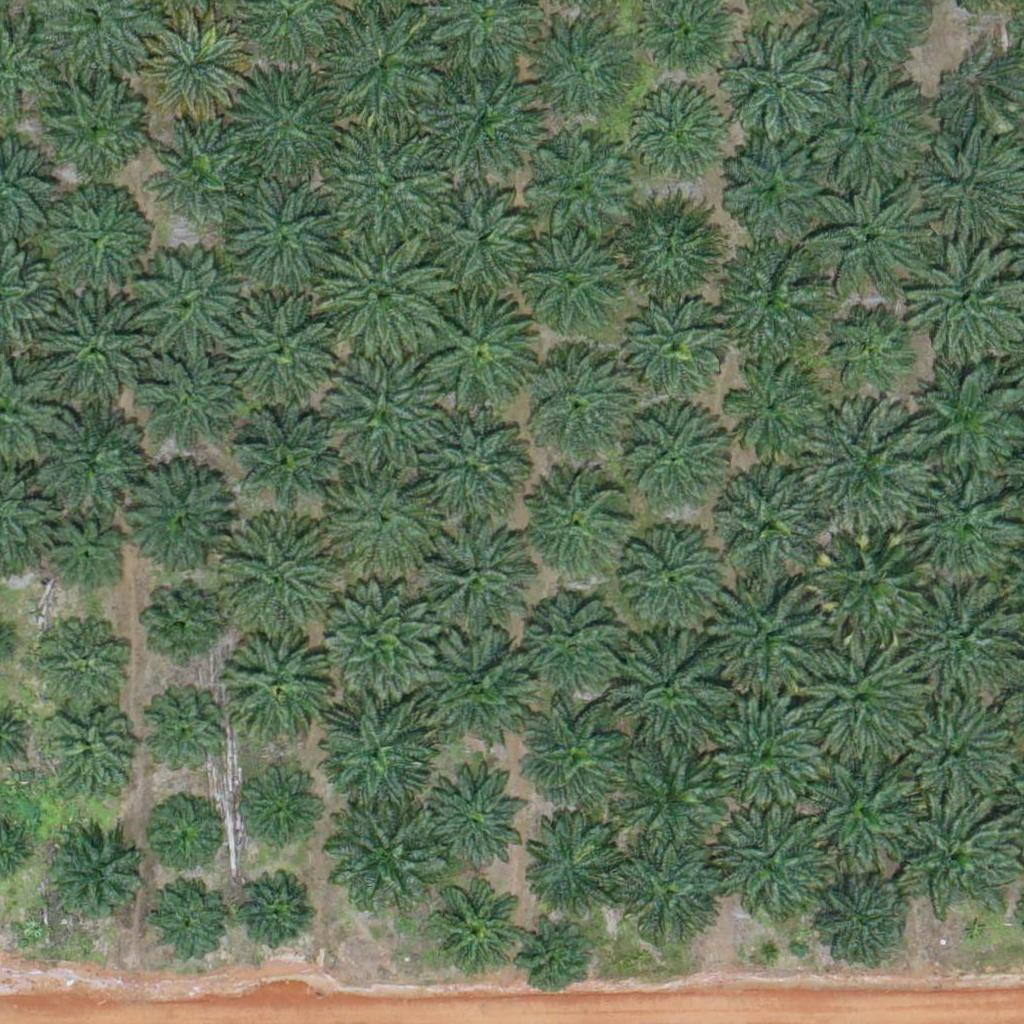Kelapa_Sawit: (898, 576, 1023, 702), (804, 639, 929, 765), (803, 515, 928, 641), (803, 401, 928, 527), (706, 474, 831, 600), (797, 71, 922, 197), (807, 167, 932, 293), (319, 6, 444, 132), (325, 125, 450, 251), (319, 228, 444, 353), (906, 457, 1019, 571), (889, 692, 1002, 805), (898, 798, 1011, 911), (613, 841, 726, 954), (615, 738, 728, 851), (619, 626, 732, 739), (518, 347, 631, 460), (517, 692, 630, 805), (427, 297, 540, 410), (417, 402, 530, 515), (414, 520, 527, 633), (327, 794, 440, 907), (217, 626, 330, 739), (120, 466, 233, 579), (38, 294, 151, 407), (24, 395, 137, 508), (719, 28, 832, 141), (513, 224, 626, 337), (427, 183, 540, 296), (429, 64, 542, 177), (138, 13, 251, 126), (135, 246, 248, 359), (36, 71, 149, 184), (708, 238, 820, 352), (613, 189, 725, 303), (519, 125, 631, 239), (908, 361, 1020, 474), (806, 763, 918, 876), (713, 579, 825, 692), (712, 694, 824, 807), (715, 809, 827, 922), (620, 510, 732, 623), (616, 397, 728, 510), (423, 624, 535, 737), (419, 770, 531, 883), (326, 351, 438, 464), (324, 460, 436, 573), (322, 579, 434, 692), (318, 694, 430, 807), (220, 516, 332, 629), (225, 66, 337, 179), (225, 177, 337, 290), (224, 289, 336, 402), (820, 864, 920, 965), (531, 466, 631, 567), (522, 590, 622, 691), (523, 812, 623, 913), (234, 413, 334, 514), (43, 825, 143, 926), (46, 191, 146, 292), (722, 355, 822, 455), (625, 296, 725, 396), (727, 136, 827, 236), (628, 87, 728, 187), (533, 19, 633, 119), (427, 882, 515, 970), (38, 616, 126, 704), (46, 710, 134, 798), (156, 128, 243, 217), (232, 763, 319, 851), (143, 360, 230, 448), (146, 586, 221, 662), (829, 305, 904, 381), (240, 879, 315, 955), (148, 701, 223, 777), (151, 883, 226, 959), (44, 519, 119, 595), (940, 46, 1015, 121), (148, 806, 211, 869), (522, 923, 585, 986)
